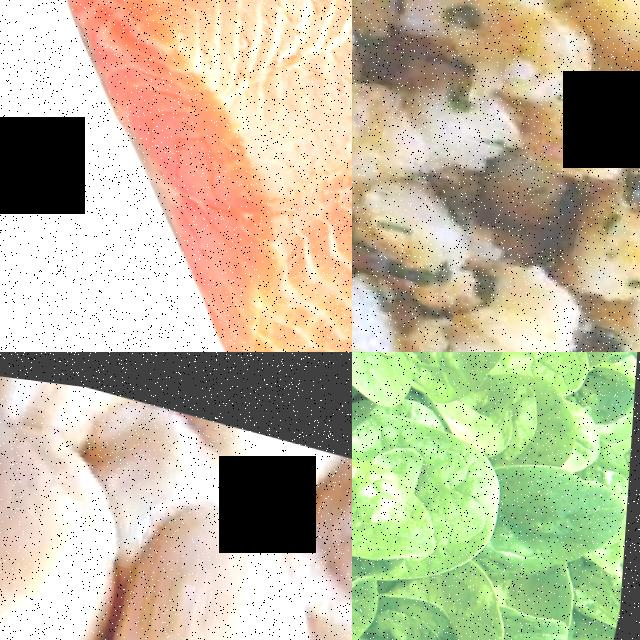salmon: (0, 0, 352, 352)
sea scallops: (105, 477, 332, 640), (0, 391, 134, 640)
spinach: (493, 440, 626, 570), (352, 450, 445, 560), (362, 577, 480, 640), (499, 589, 575, 640), (352, 555, 384, 640)
